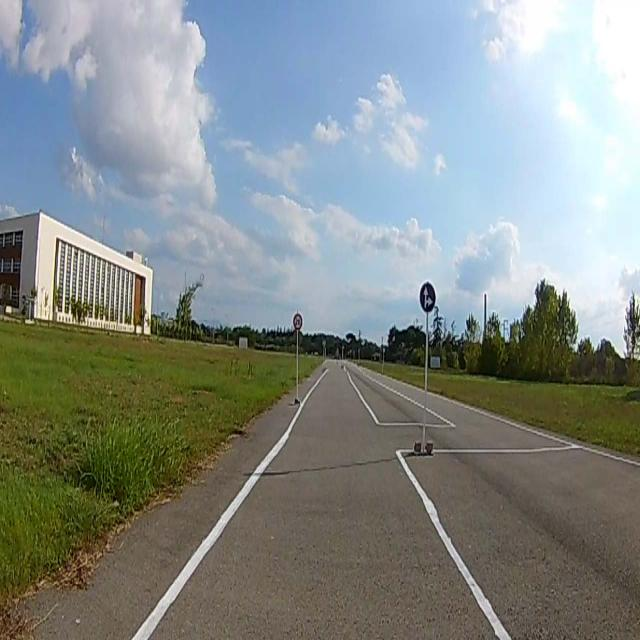ilerisag: (419, 283, 436, 313)
